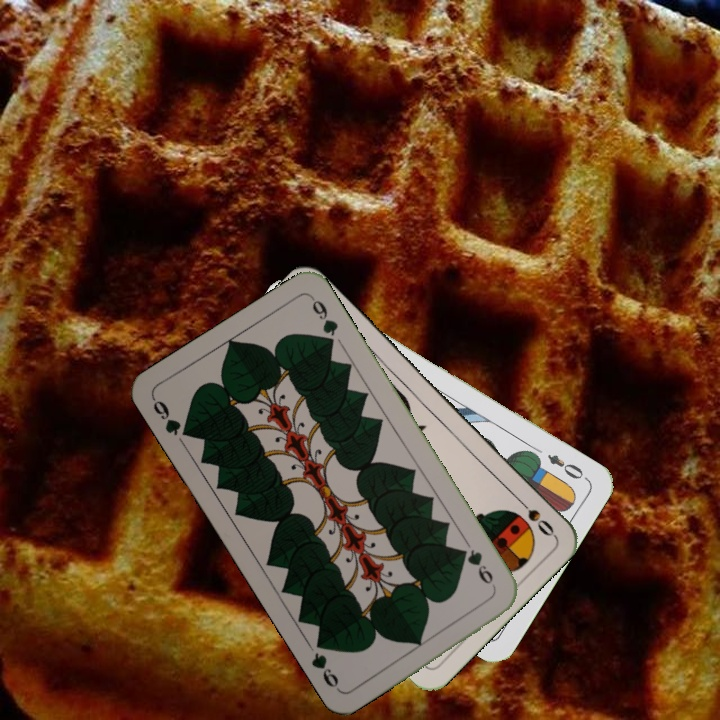EO: (543, 450, 586, 482)
G9: (148, 394, 195, 441), (455, 544, 496, 587)
SO: (511, 492, 557, 539)
